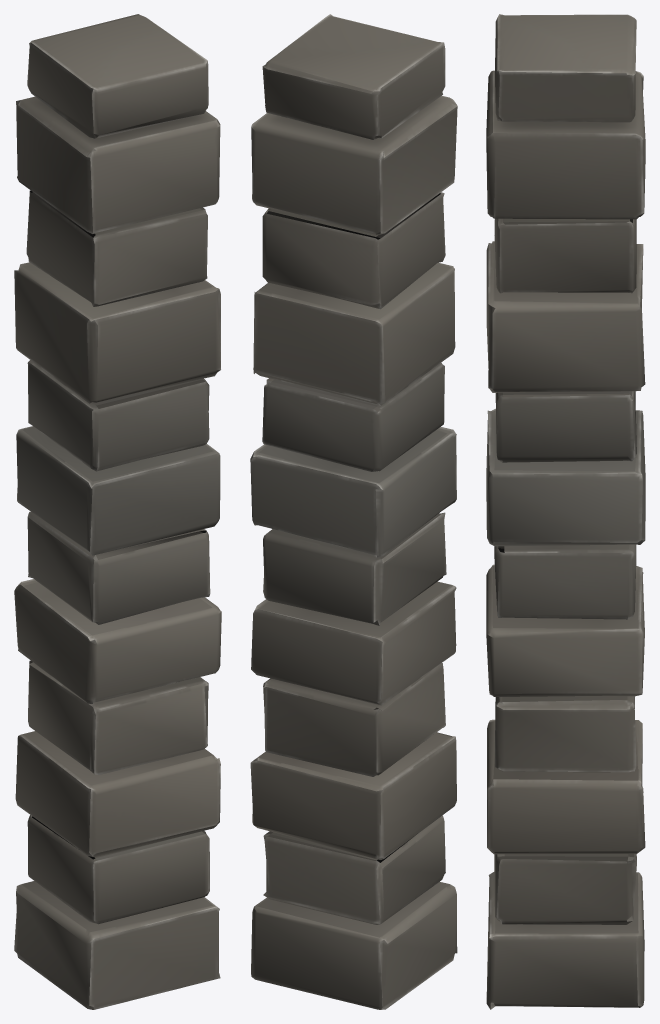
Rendered from gallows_corner.glb.
The picture shows the model from 3 angles, left to right: view 1: azimuth 30°, elevation 25°; view 2: azimuth 150°, elevation 25°; view 3: azimuth 270°, elevation 25°; orthographic projection. The views are drawn at different scales.
Parts seen in each view (by area): view 1: gallows_corner; view 2: gallows_corner; view 3: gallows_corner.
Part boxes in pixels (x1,y1,x2,y2): gallows_corner: (14, 14, 221, 1009); gallows_corner: (250, 14, 457, 1009); gallows_corner: (486, 14, 645, 1009).
Bounding box in the file's own units: 0.9229 × 5.96 × 0.92.
1 material, 1 textured.
